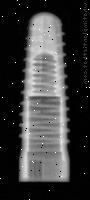Camlog: (15, 11, 70, 182)
